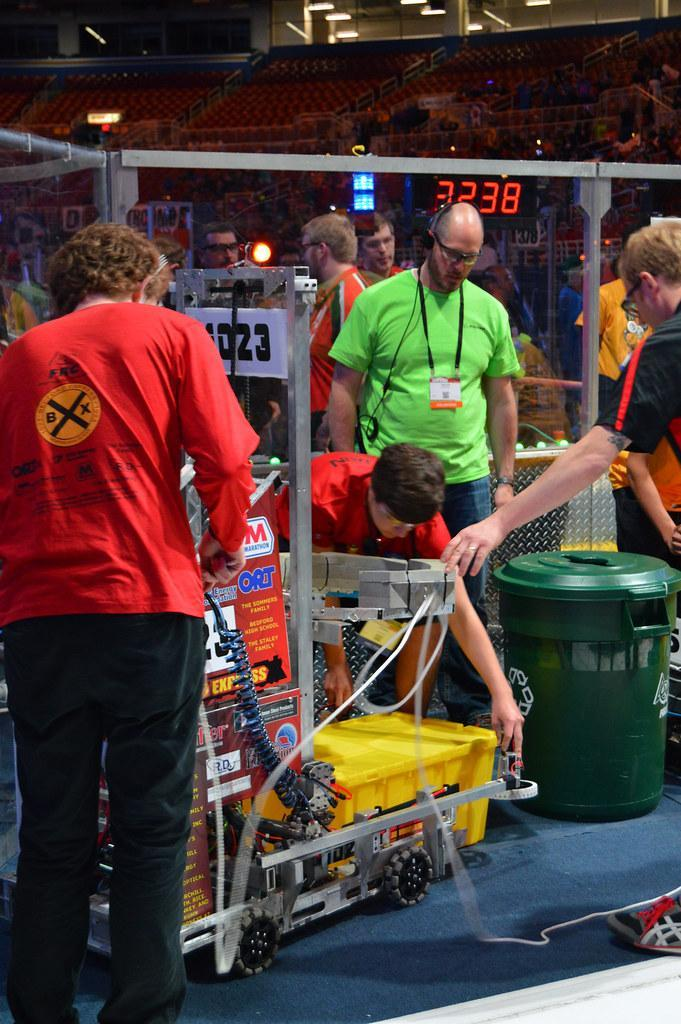robot: (138, 252, 550, 988)
